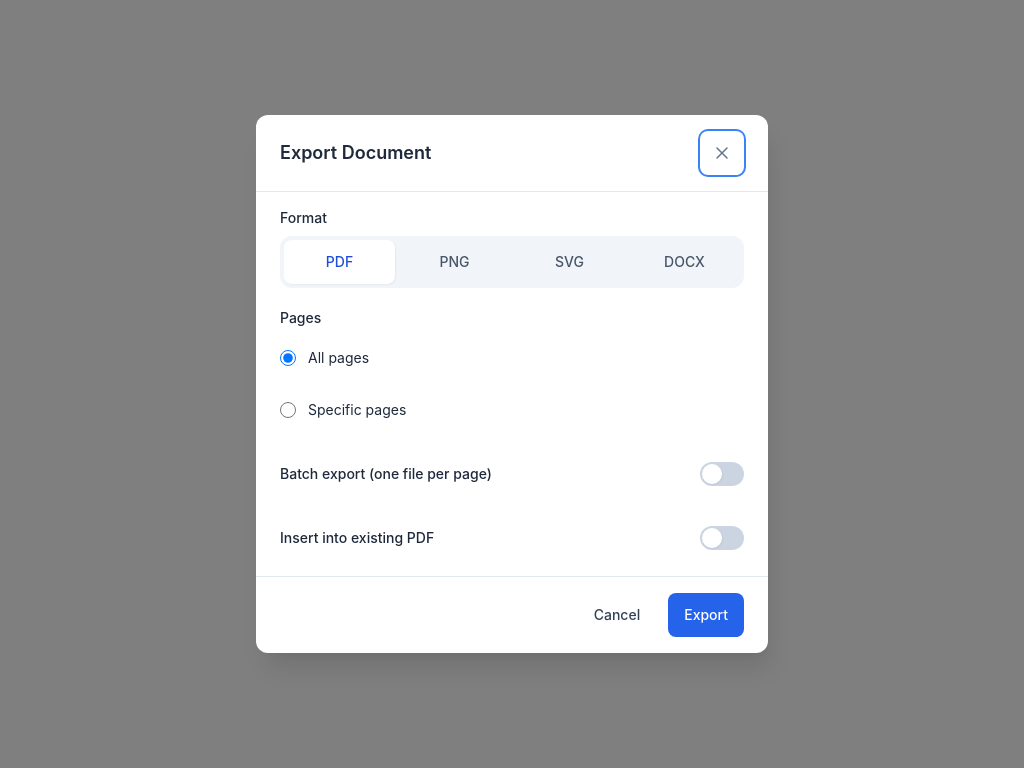
Test case: ExportDialog › page selection › shows text input when specific pages is selected
Click the text "Specific pages": [357, 410] box top-left (308, 400), bottom-right (406, 420)
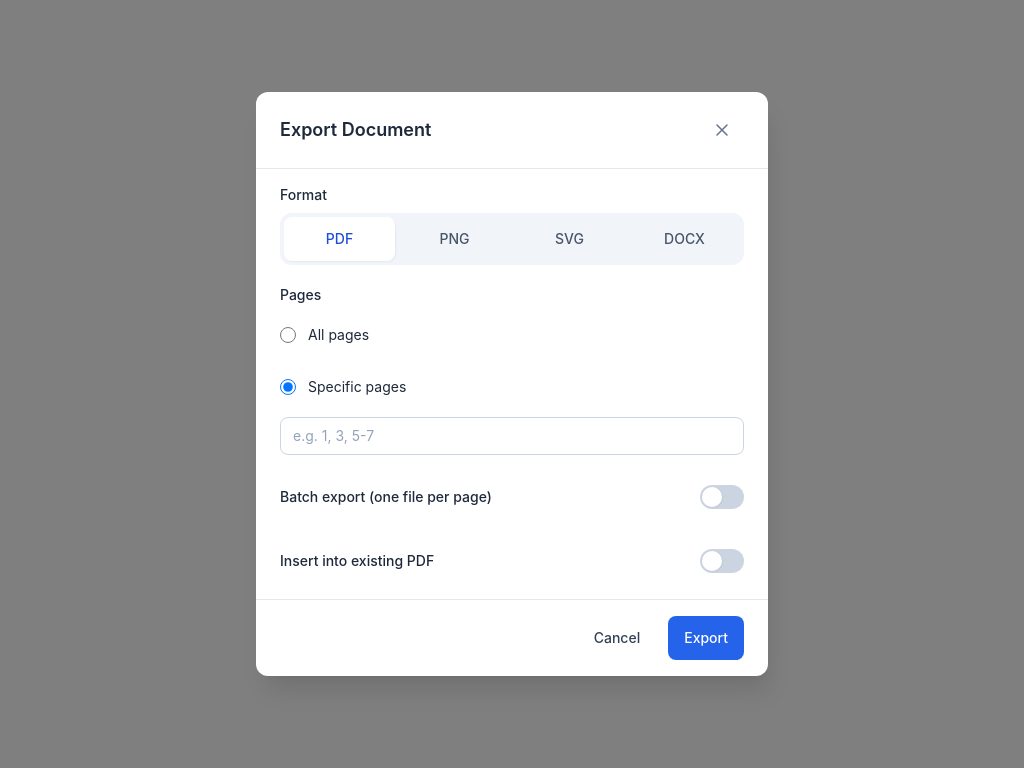
Expected: the field with placeholder "e.g. 1, 3, 5-7" is shown, top-left (280, 417), bottom-right (744, 455)
